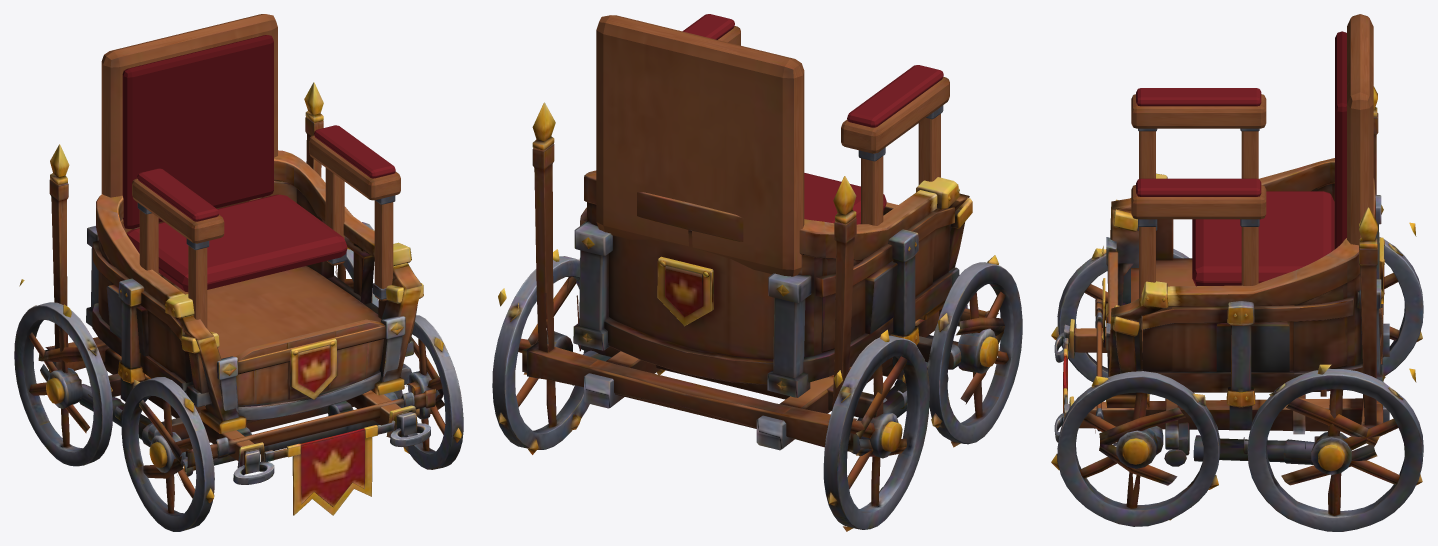
The model's file is k-carriage.glb.
The picture shows the model from 3 angles, left to right: view 1: azimuth 30°, elevation 25°; view 2: azimuth 150°, elevation 25°; view 3: azimuth 270°, elevation 25°; orthographic projection. The views are drawn at different scales.
Visible parts, largest first — view 1: CompactRoyalCarriage, Throne back velvet, Throne cushion, WheelLRear, WheelLFront, Throne back frame, WheelRFront, Armrest frame, Armrest frame.001, Armrest velvet.001, Armrest velvet, Armrest support.002 (+3 smaller); view 2: CompactRoyalCarriage, Throne back frame, WheelLRear, WheelLFront, WheelRRear, Armrest frame, Armrest velvet, Throne cushion, Armrest support.001, Armrest support, Armrest velvet.001; view 3: CompactRoyalCarriage, WheelRRear, WheelRFront, Throne cushion, Throne back frame, Armrest frame.001, Armrest frame, WheelLRear, WheelLFront, Throne back velvet, Armrest velvet.001, Armrest velvet (+4 smaller).
Boxes of the visible parts, x1,y1,x2,y2 form: CompactRoyalCarriage: [19, 82, 444, 515]; Throne back velvet: [122, 35, 273, 228]; Throne cushion: [126, 194, 347, 292]; WheelLRear: [14, 302, 122, 466]; WheelLFront: [121, 377, 214, 531]; Throne back frame: [101, 14, 277, 229]; WheelRFront: [394, 315, 463, 469]; Armrest frame: [132, 178, 224, 243]; Armrest frame.001: [309, 135, 400, 200]; Armrest velvet.001: [314, 125, 395, 178]; Armrest velvet: [137, 168, 218, 221]; Armrest support.002: [374, 200, 393, 301]; CompactRoyalCarriage: [498, 102, 1004, 456]; Throne back frame: [596, 15, 804, 276]; WheelLRear: [823, 335, 929, 531]; WheelLFront: [927, 255, 1022, 447]; WheelRRear: [492, 256, 589, 454]; Armrest frame: [841, 77, 949, 153]; Armrest velvet: [847, 65, 943, 127]; Throne cushion: [804, 173, 886, 224]; Armrest support.001: [861, 156, 883, 225]; Armrest support: [918, 114, 940, 184]; Armrest velvet.001: [682, 14, 734, 39]; CompactRoyalCarriage: [1054, 86, 1416, 485]; WheelRRear: [1243, 368, 1423, 531]; WheelRFront: [1051, 371, 1220, 526]; Throne cushion: [1192, 191, 1334, 286]; Throne back frame: [1347, 14, 1373, 245]; Armrest frame.001: [1131, 185, 1266, 219]; Armrest frame: [1131, 94, 1266, 128]; WheelLRear: [1343, 237, 1423, 390]; WheelLFront: [1051, 248, 1189, 381]; Throne back velvet: [1335, 31, 1346, 248]; Armrest velvet.001: [1136, 178, 1261, 196]; Armrest velvet: [1136, 88, 1261, 106].
Size of the model in its own units: 1.94 by 2.36 by 1.96.
Materials: 3 (1 with a texture image).
